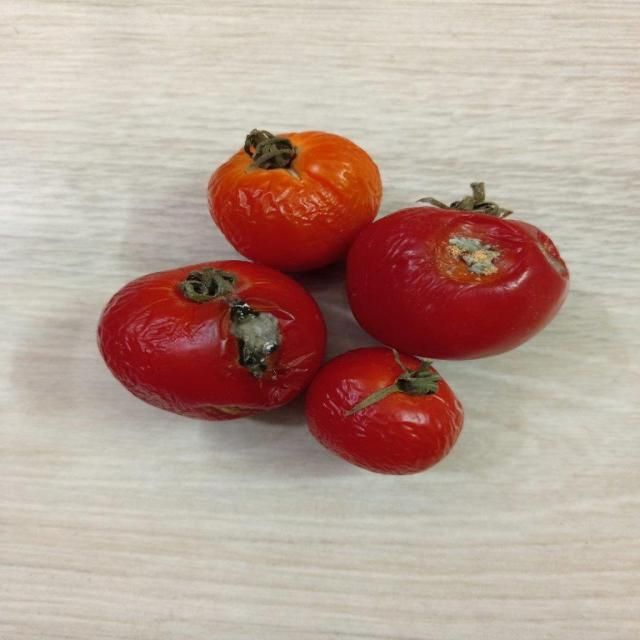Rotten: (94, 258, 325, 419), (342, 205, 572, 362)
